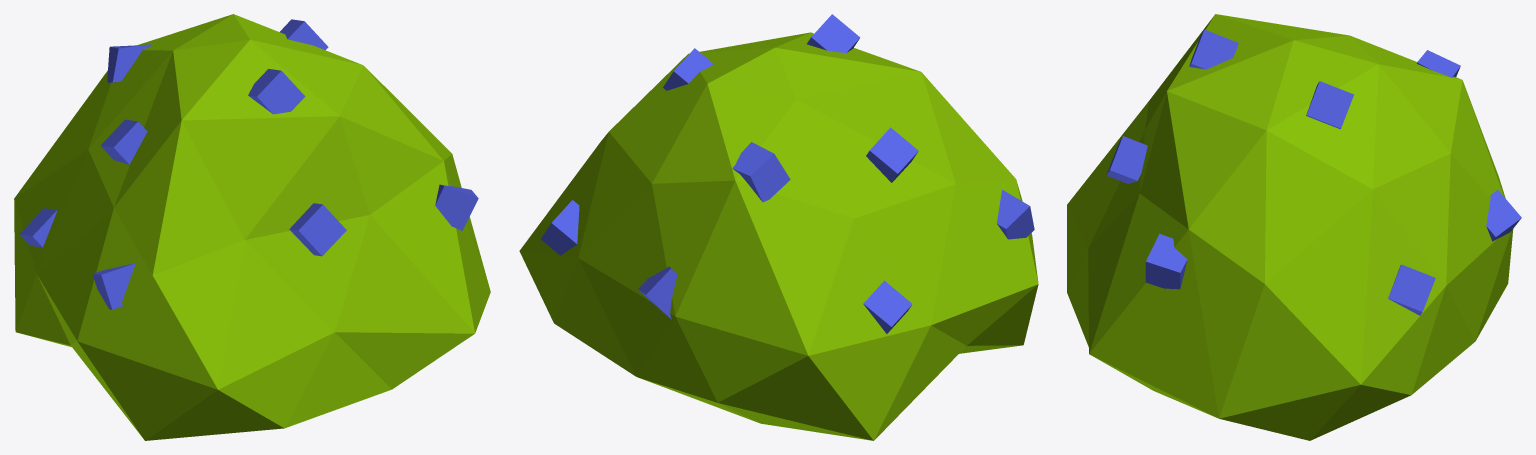
File: Bush_Berries_Blue.fbx
3 views of the same model, side by side, from view 1: azimuth 30°, elevation 25°; view 2: azimuth 150°, elevation 25°; view 3: azimuth 270°, elevation 25° (orthographic).
Parts seen in each view (by area): view 1: Bush_Berries_Blue; view 2: Bush_Berries_Blue; view 3: Bush_Berries_Blue.
Boxes of the visible parts, x1,y1,x2,y2 form: Bush_Berries_Blue: (14, 14, 490, 440); Bush_Berries_Blue: (519, 14, 1038, 440); Bush_Berries_Blue: (1067, 14, 1521, 440).
Size of the model in its own units: 185 by 131 by 164.
